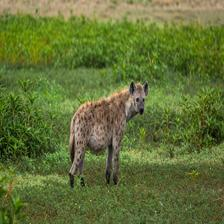hyena: (61, 70, 150, 189)
